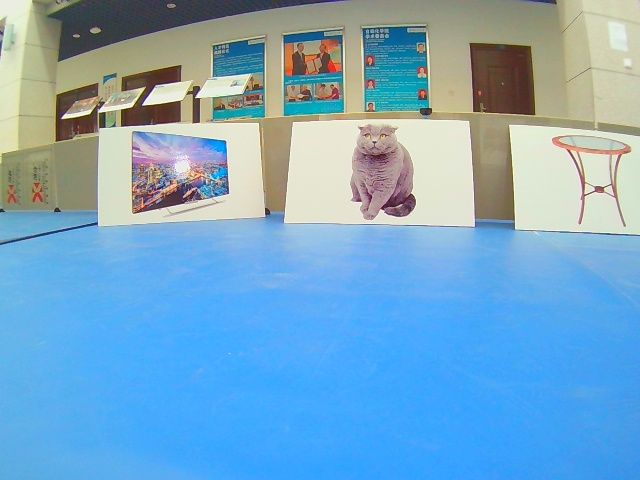pet: (283, 121, 477, 231)
table: (509, 125, 640, 236)
tv: (99, 122, 266, 225)
